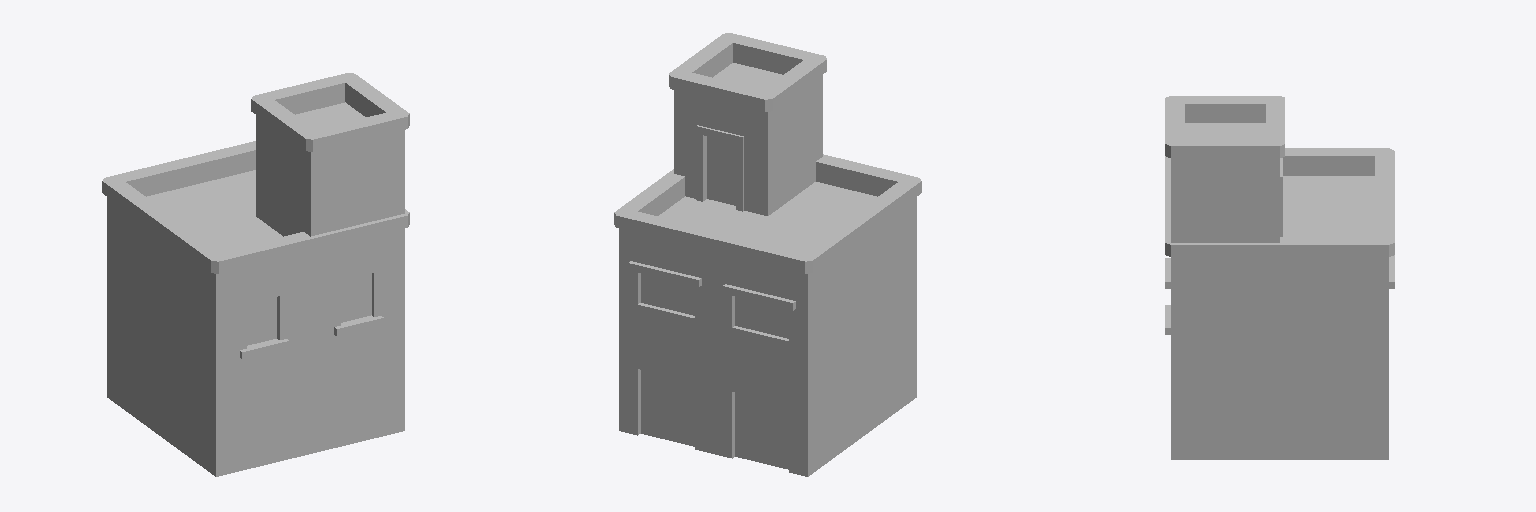
File: small_buildingF.obj
3 renders of one model, left to right at view 1: azimuth 30°, elevation 25°; view 2: azimuth 150°, elevation 25°; view 3: azimuth 270°, elevation 25°, orthographic.
Visible parts, largest first — view 1: small_buildingF; view 2: small_buildingF; view 3: small_buildingF.
Part boxes in pixels (x1,y1,x2,y2): small_buildingF: (102, 73, 409, 476); small_buildingF: (614, 33, 921, 476); small_buildingF: (1165, 96, 1394, 459).
Bounding box in the file's own units: 0.84 × 1.28 × 0.84.